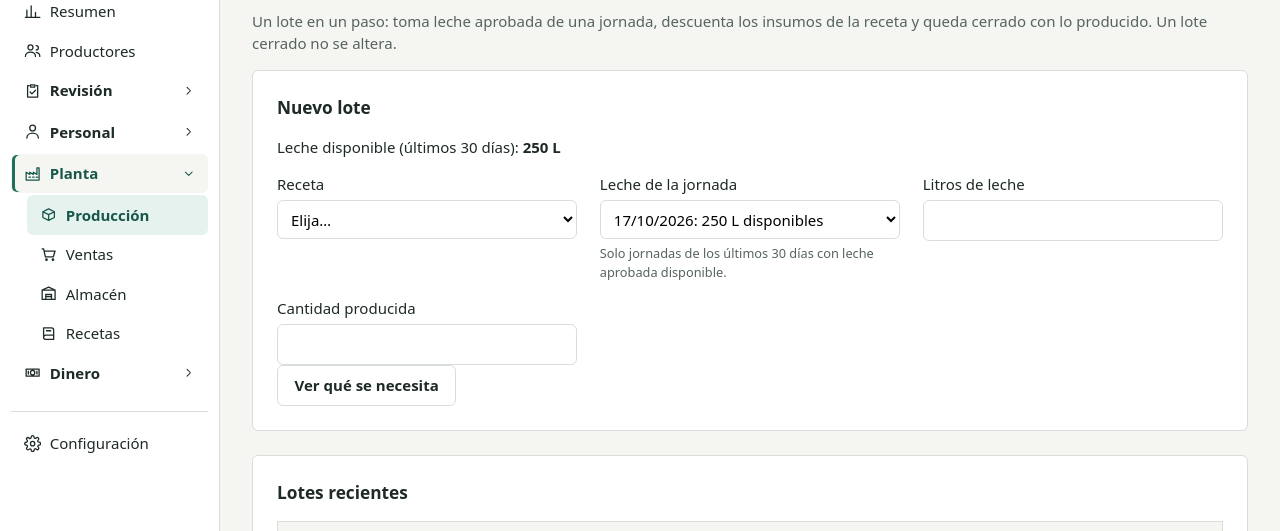
Test: producción › bloquea si no alcanza la leche de la jornada
This screenshot has width=1280, height=531.
Select "Queso paria (unidades)" in the dropdown labelled "Receta". click: (427, 220)
box: [277, 200, 577, 239]
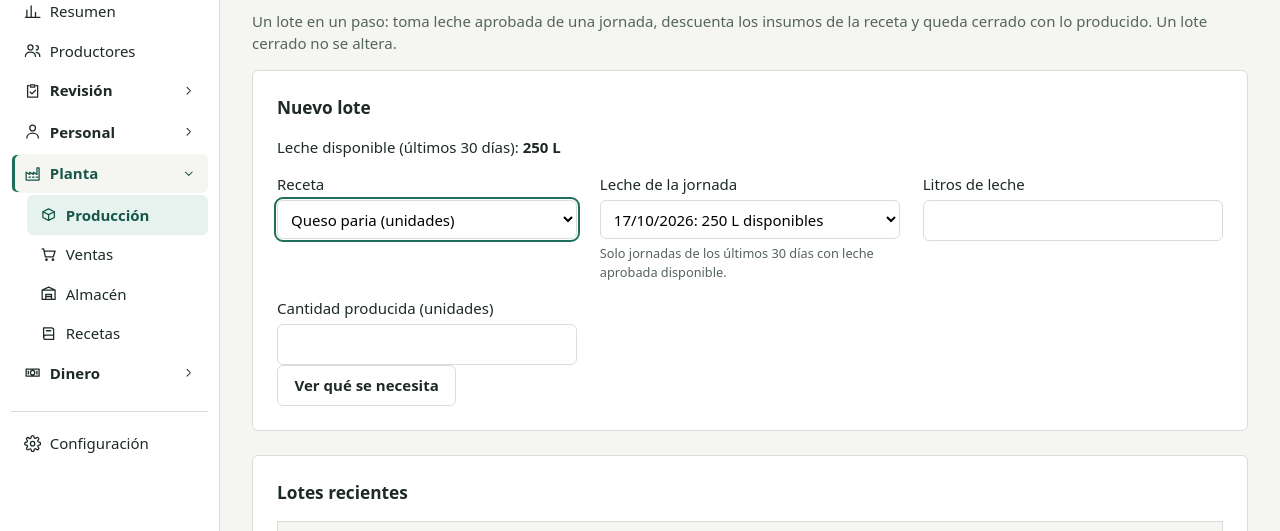
Select "17/10/2026: 250 L disponibles" in the dropdown labelled "Leche de la jornada". click: (750, 220)
box: [600, 200, 900, 239]
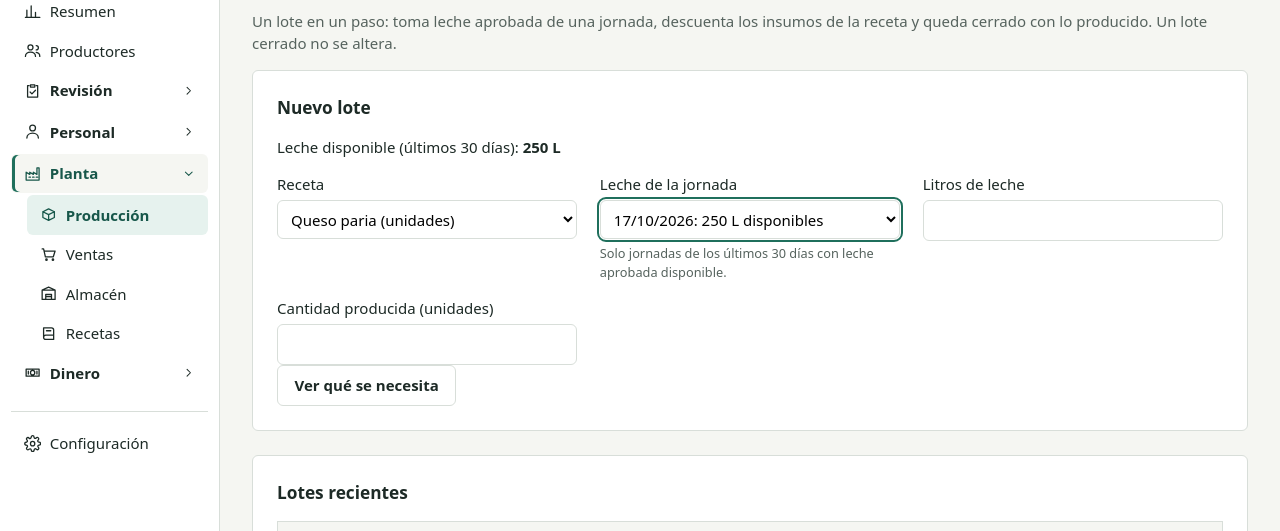
Type "100" into the field labelled "Litros de leche". click: (1073, 221)
box: [923, 200, 1223, 241]
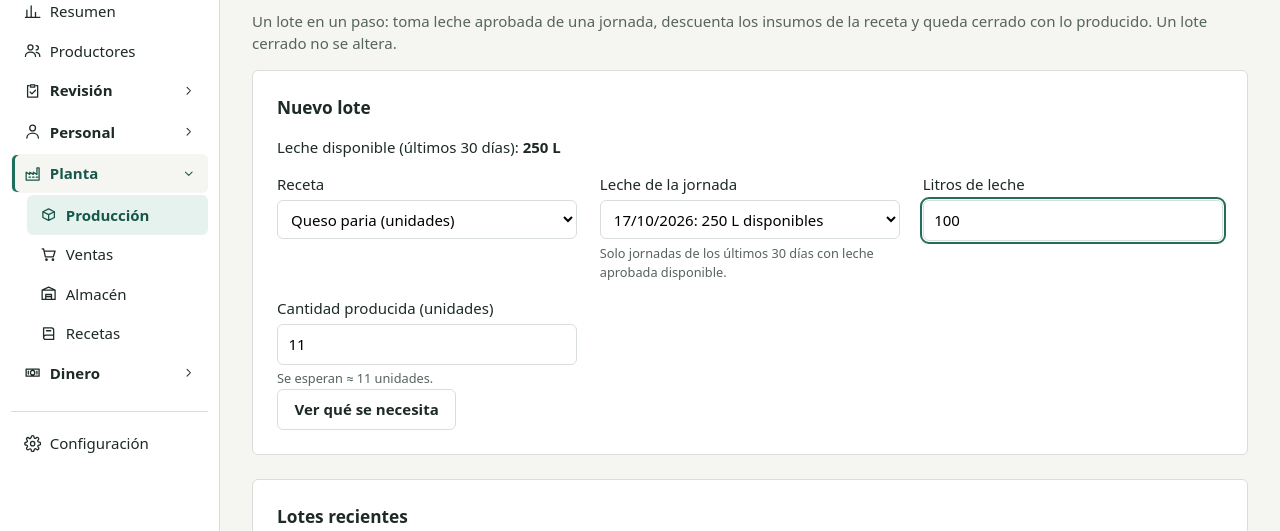
Replace the text in the field labelled "Cantidad producida (unidades)" with "10.5". click: (427, 344)
box: [277, 324, 577, 365]
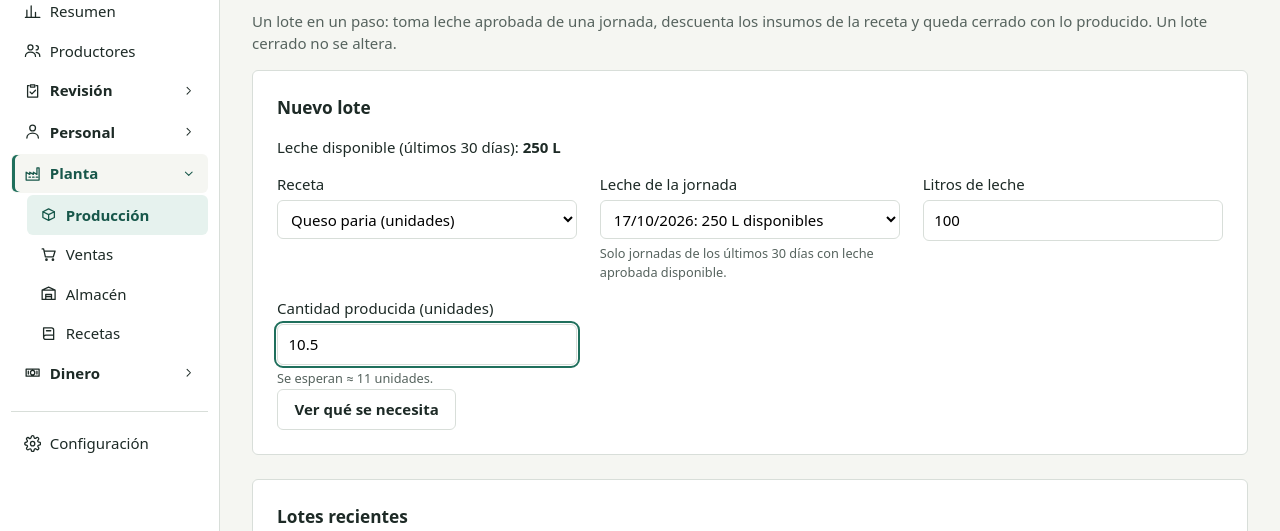
Click the button "Ver qué se necesita". click: (367, 409)
box: [277, 388, 456, 430]
(page scrolled)
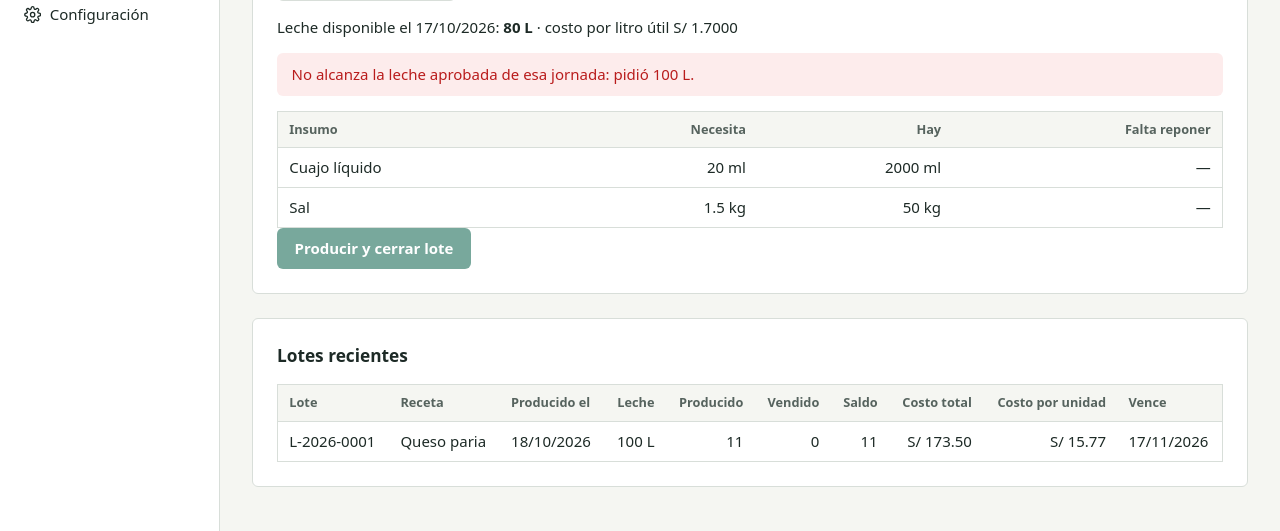
Expected: the text "No alcanza la leche aprobada de esa jornada: pidió 100 L." is shown, [277, 53, 1223, 96]
Expected: the button "Producir y cerrar lote" is disabled, [277, 228, 471, 269]
